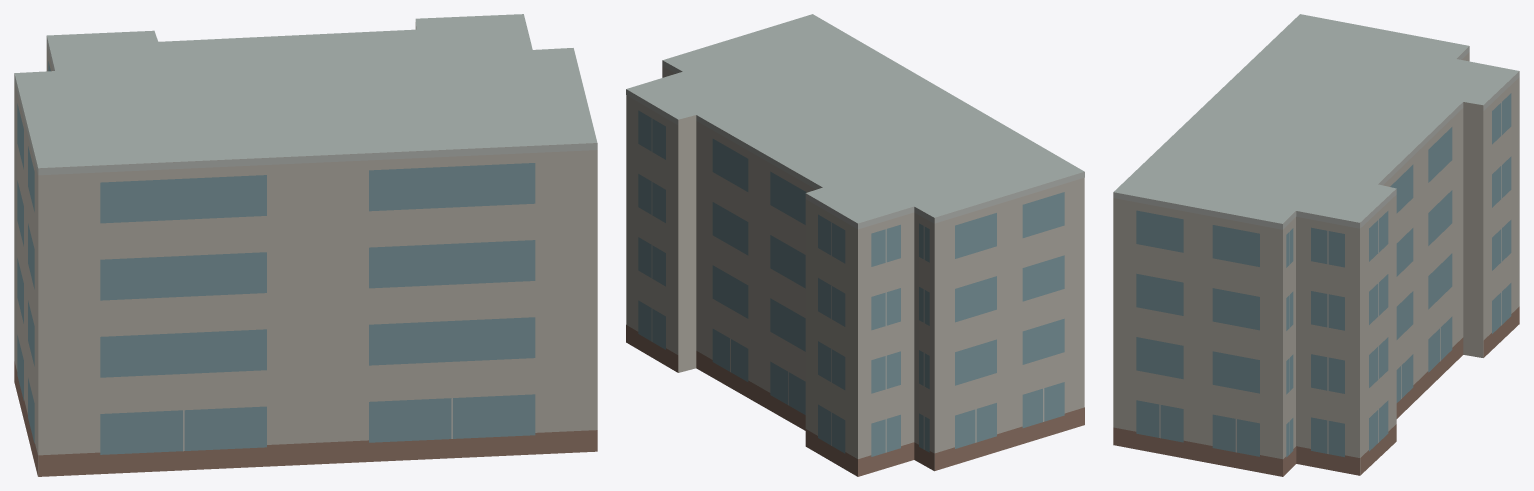
File: survey-upis-32530707.glb
3 renders of one model, left to right at view 1: azimuth 30°, elevation 25°; view 2: azimuth 150°, elevation 25°; view 3: azimuth 270°, elevation 25°, orthographic. The views are drawn at different scales.
Visible parts, largest first — view 1: survey-upis-32530707.tmp; view 2: survey-upis-32530707.tmp; view 3: survey-upis-32530707.tmp.
Part boxes in pixels (box(x1,y1,x2,y2)): survey-upis-32530707.tmp: box(14, 14, 597, 476); survey-upis-32530707.tmp: box(626, 14, 1084, 476); survey-upis-32530707.tmp: box(1113, 14, 1519, 476).
Bounding box in the file's own units: 18.7 × 10.5 × 15.29.
